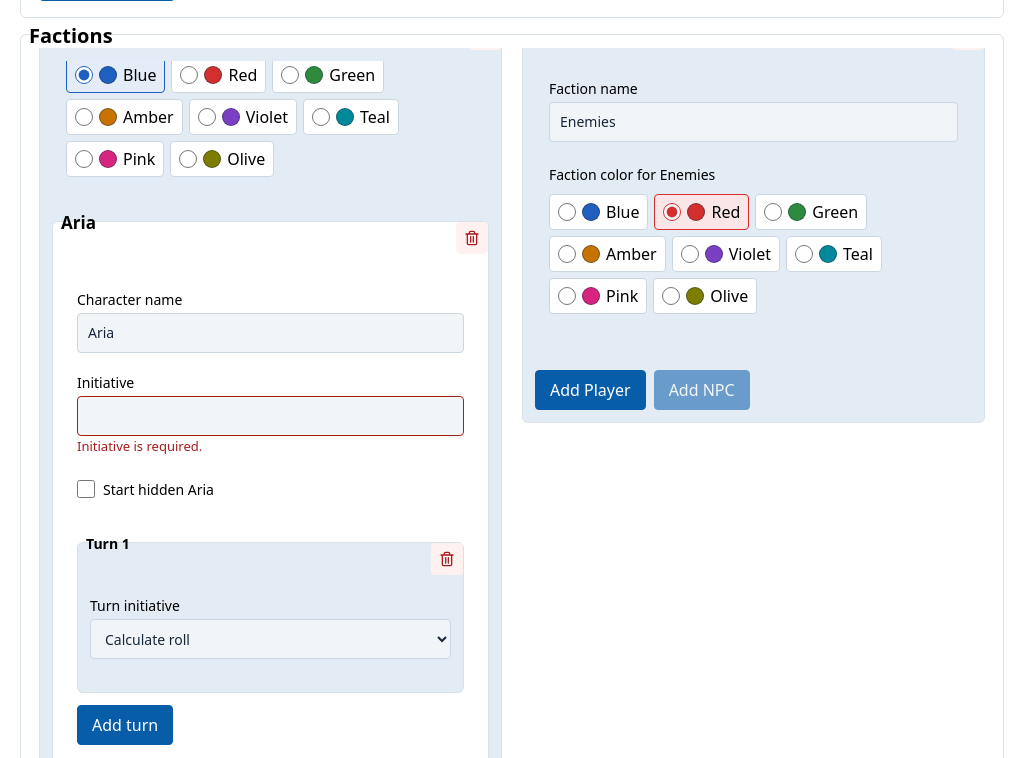
it: challenge setup persistence › shows initiative-stat issues and clears them when fixed
This screenshot has width=1024, height=758.
(page scrolled)
Expected: the text "Initiative is required." is shown once, [77,437,202,455]
Type "2" into the number field named "Initiative stat for Aria" at [270, 416], box [77,396,464,436]
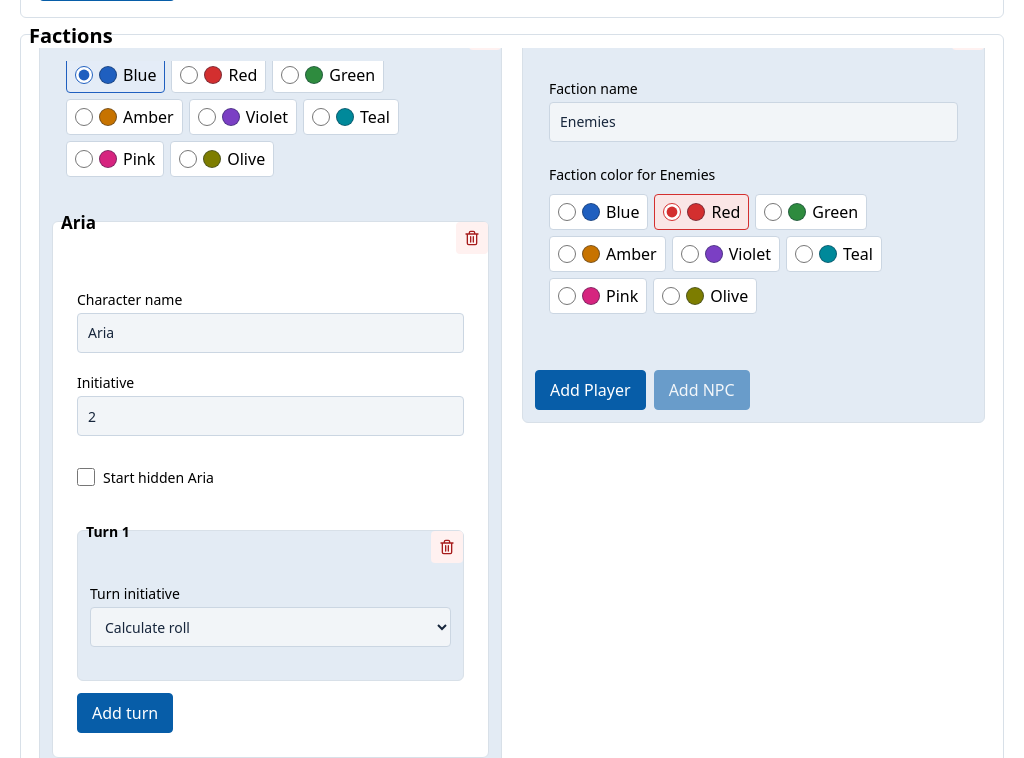
Result: the text "Initiative is required." is gone
